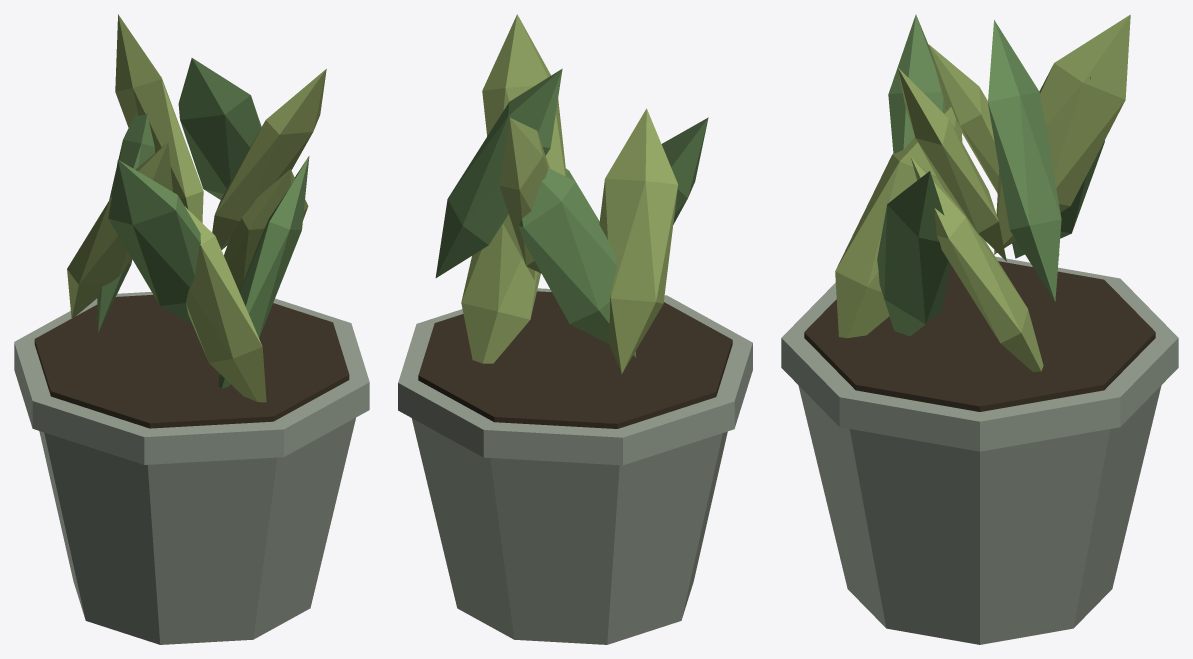
Rendered from planter-v1.glb.
The picture shows the model from 3 angles, left to right: view 1: azimuth 30°, elevation 25°; view 2: azimuth 150°, elevation 25°; view 3: azimuth 270°, elevation 25°; orthographic projection. The views are drawn at different scales.
Visible parts, largest first — view 1: Planter_mesh; view 2: Planter_mesh; view 3: Planter_mesh.
Boxes of the visible parts, x1=… form: Planter_mesh: x1=14, y1=14, x2=369, y2=644; Planter_mesh: x1=398, y1=14, x2=752, y2=644; Planter_mesh: x1=781, y1=14, x2=1178, y2=644.
Size of the model in its own units: 0.96 by 1.53 by 0.96.
